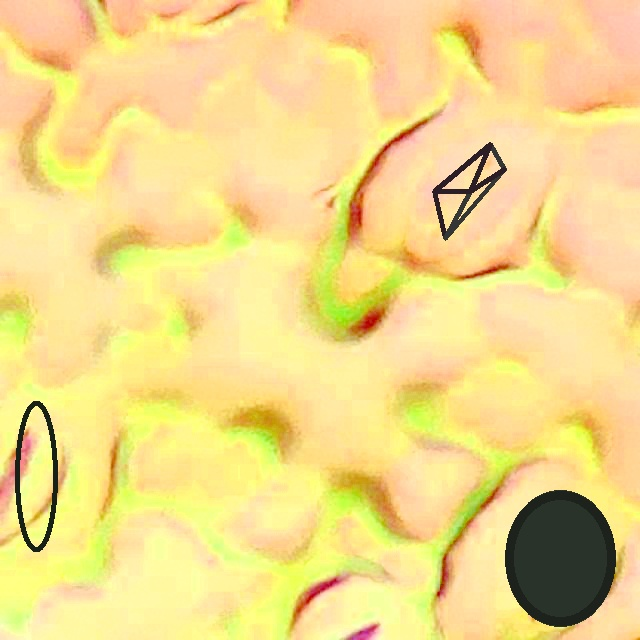close: (433, 142, 506, 240)
open: (504, 491, 615, 625), (13, 401, 58, 551)
